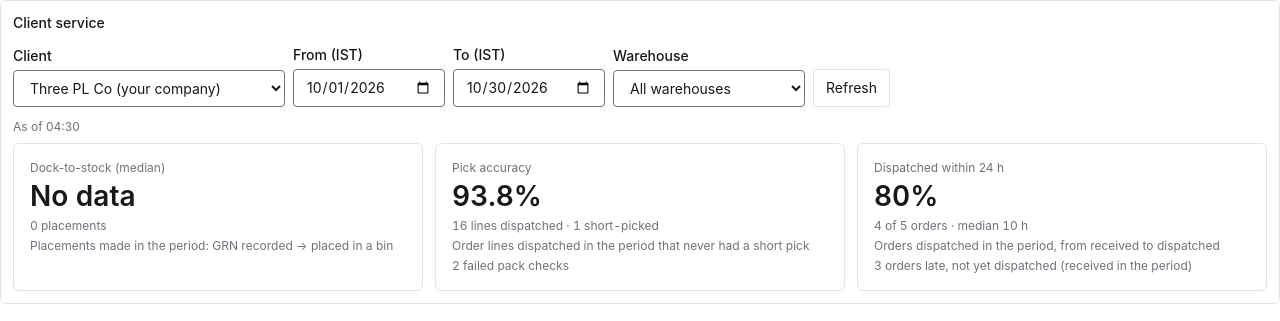
ClientService (21-8) › Refresh reads again; a 503 asks for a shorter period
The width and height of the screenshot is (1280, 321).
Click the button "Refresh". click: (852, 88)
box: [813, 69, 890, 107]
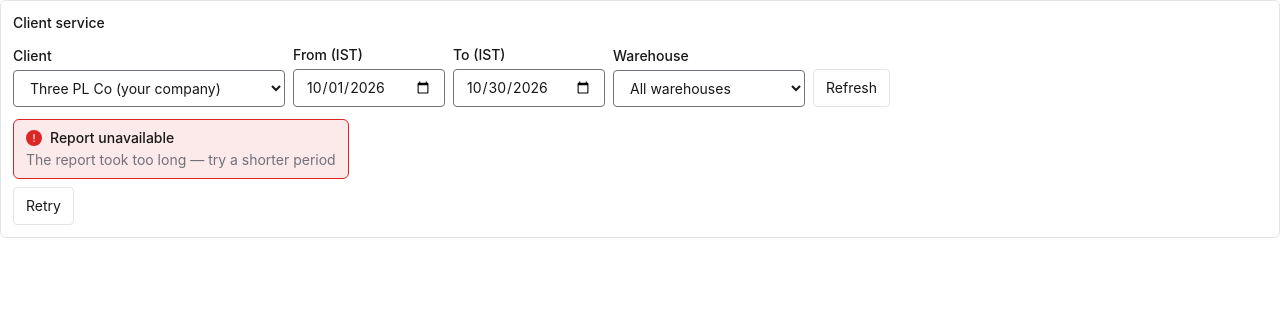
Expected: the text "The report took too long — try a shorter period" is shown, [26, 150, 336, 170]
